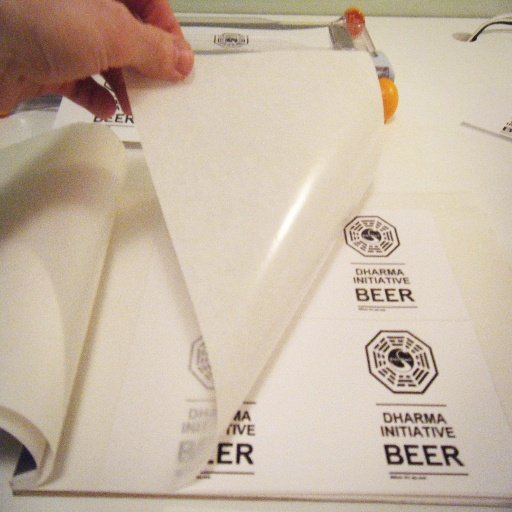hand: (0, 0, 196, 94)
